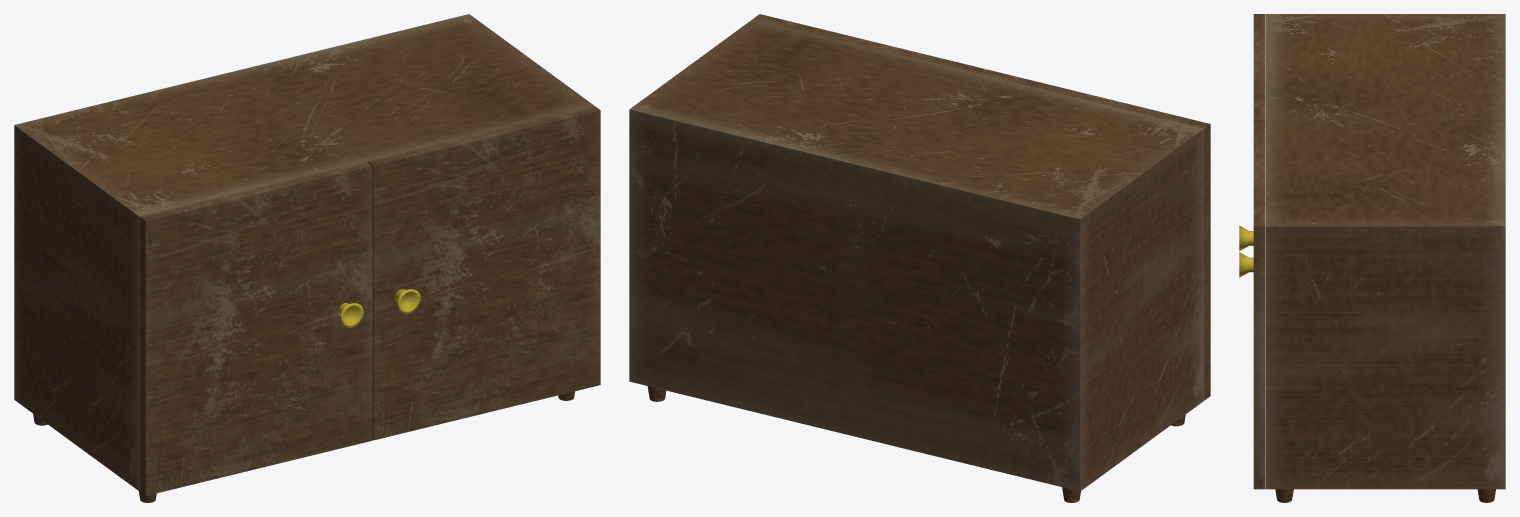
File: cupb.fbx
3 views of the same model, side by side, from view 1: azimuth 30°, elevation 25°; view 2: azimuth 150°, elevation 25°; view 3: azimuth 270°, elevation 25° (orthographic). The views are drawn at different scales.
Parts seen in each view (by area): view 1: Cupboard, DoorL, DoorR; view 2: Cupboard, DoorL, DoorR; view 3: Cupboard, DoorR, DoorL.
Boxes of the visible parts, x1,y1,x2,y2 form: Cupboard: [14, 14, 594, 502]; DoorL: [139, 161, 372, 495]; DoorR: [367, 106, 600, 440]; Cupboard: [629, 18, 1204, 502]; DoorL: [980, 69, 1210, 400]; DoorR: [754, 14, 984, 73]; Cupboard: [1265, 14, 1505, 502]; DoorR: [1253, 120, 1265, 489]; DoorL: [1253, 14, 1265, 120].
Size of the model in its own units: 87.02 by 53.82 by 46.07.
